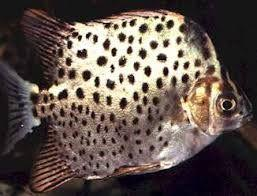Scat Fish: (1, 7, 256, 194)
